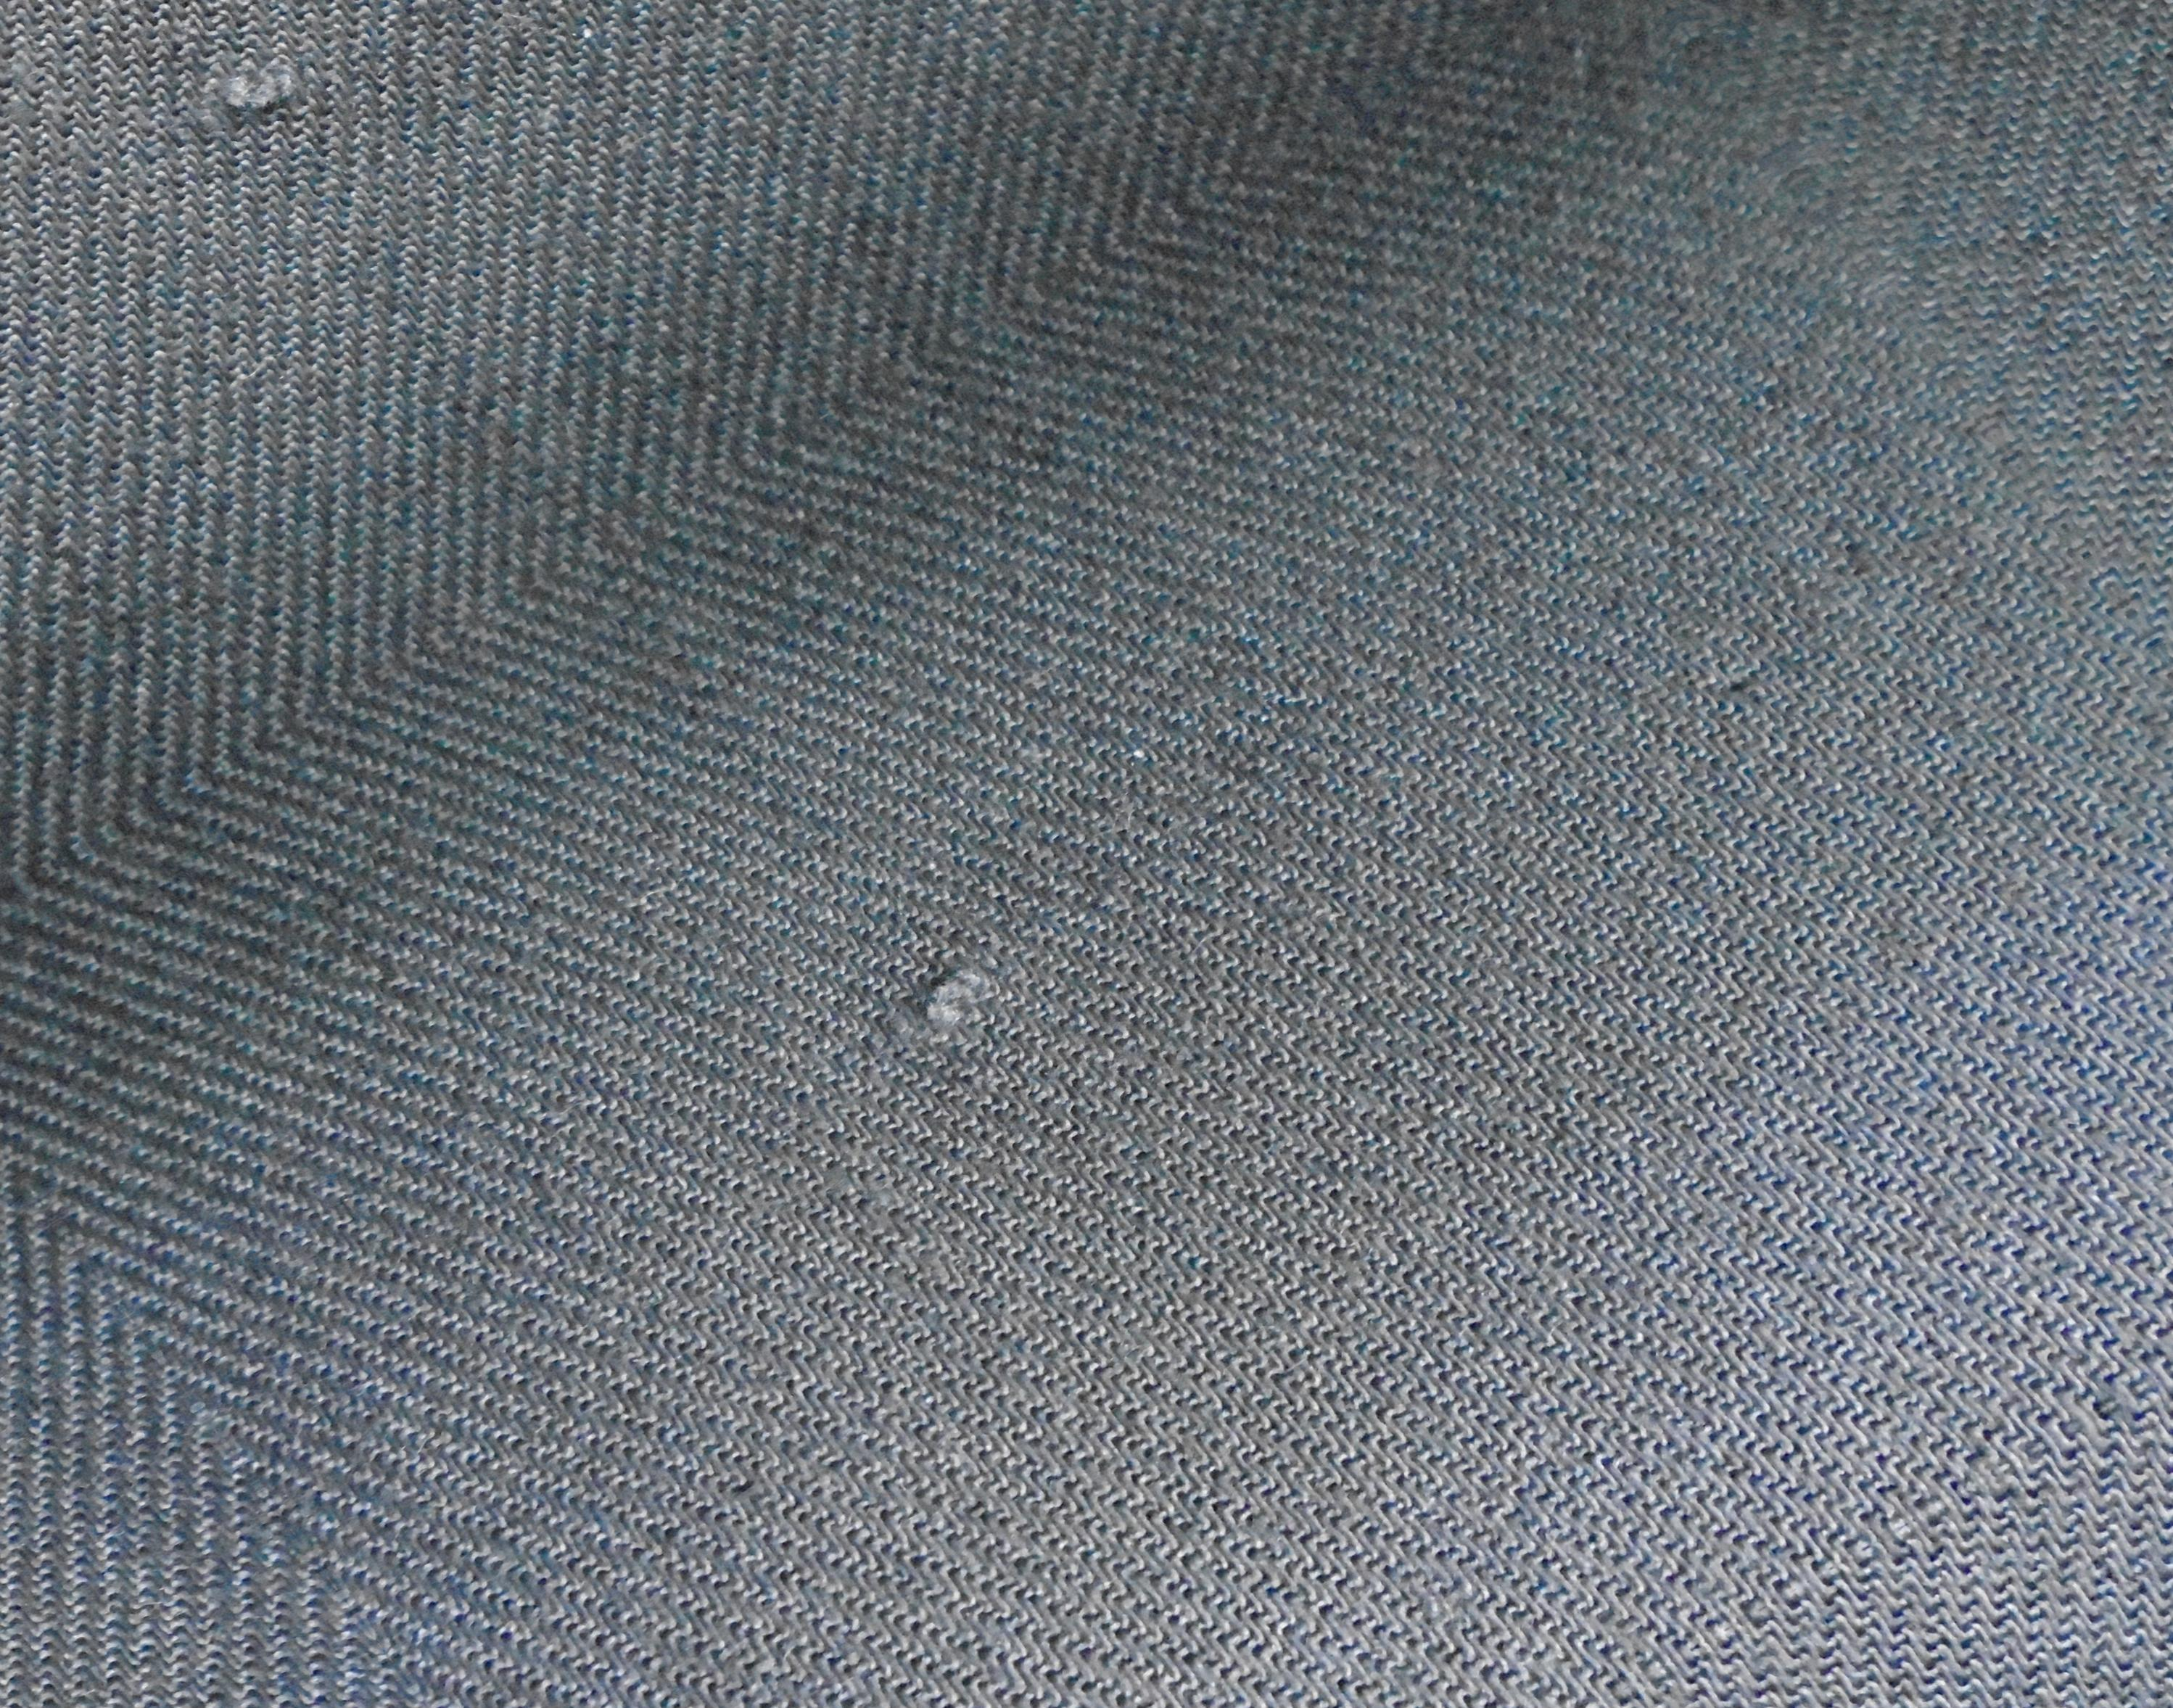knot: (887, 935, 1023, 1067), (198, 41, 325, 145)
